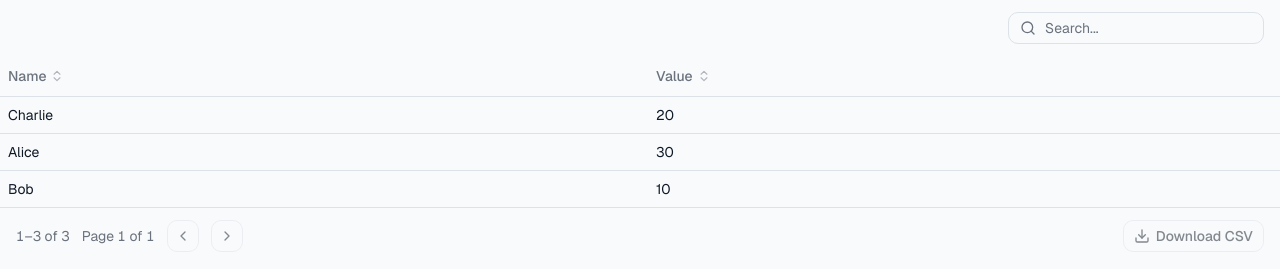
Test: DataTable › searches rows when searchable is enabled
Type "Bob" into the field with placeholder "Search..." at (1136, 28), box [1008,12,1264,44]
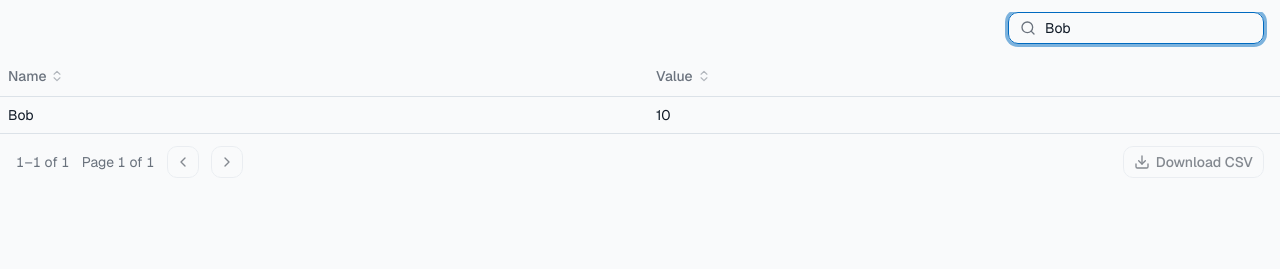
Check: the text "Bob" is shown, box [0,96,648,132]
Check: the text "Alice" is gone
Check: the text "Charlie" is gone
